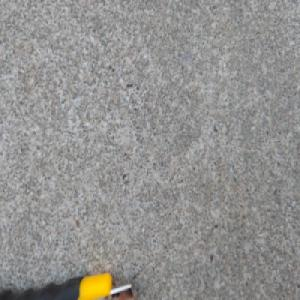Cutter: (0, 271, 140, 300)
